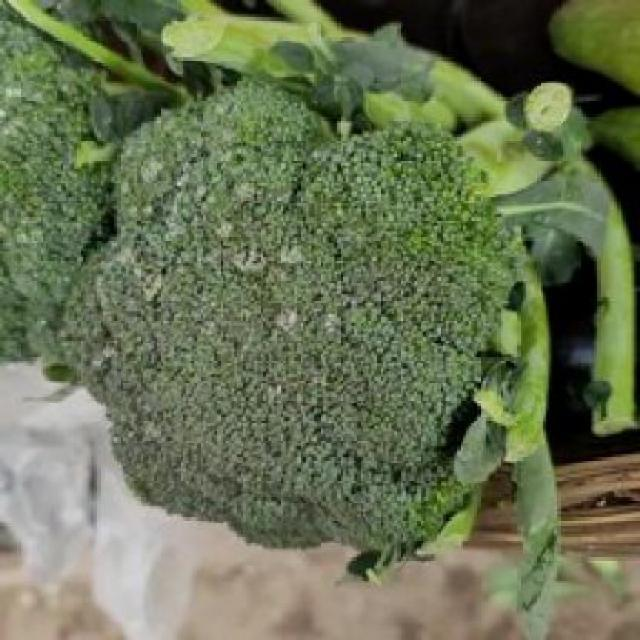broccoli: (59, 68, 575, 544)
